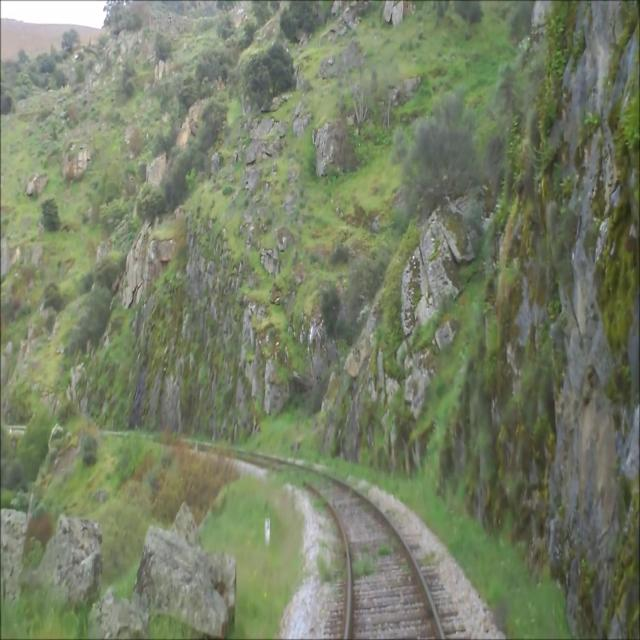rail-track: (301, 472, 440, 639)
